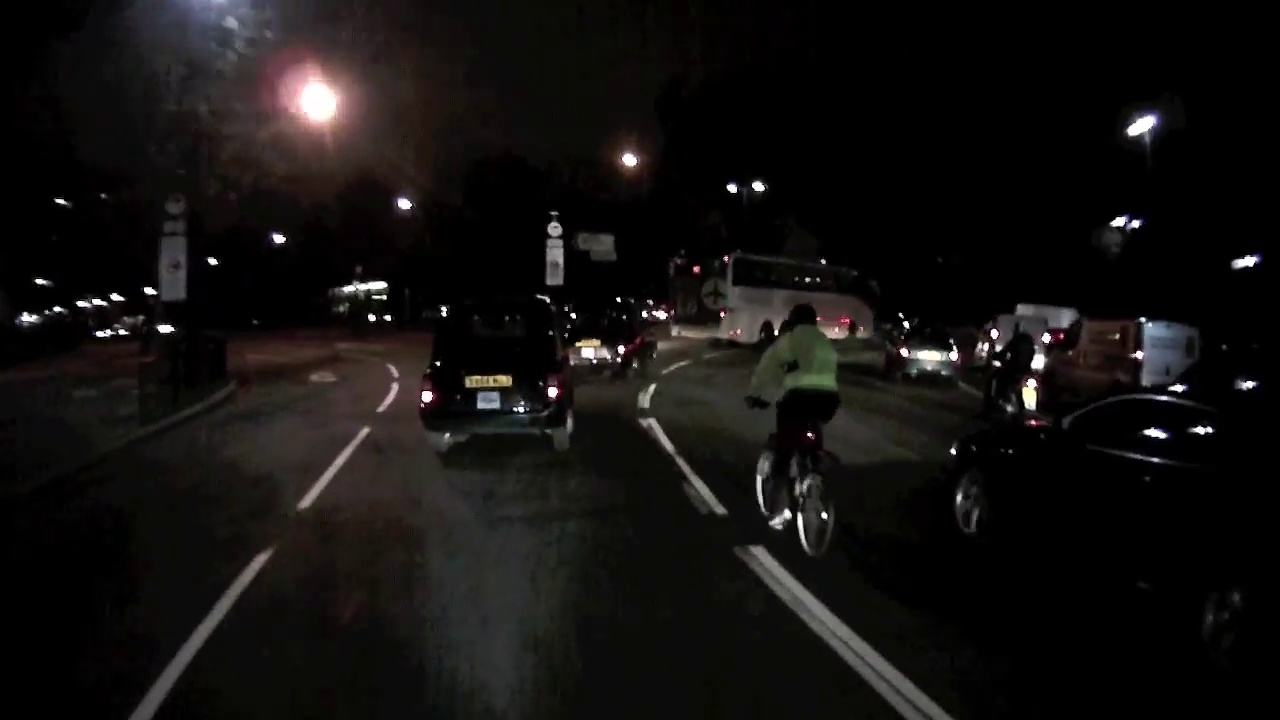cyclist_back: (741, 296, 846, 551)
